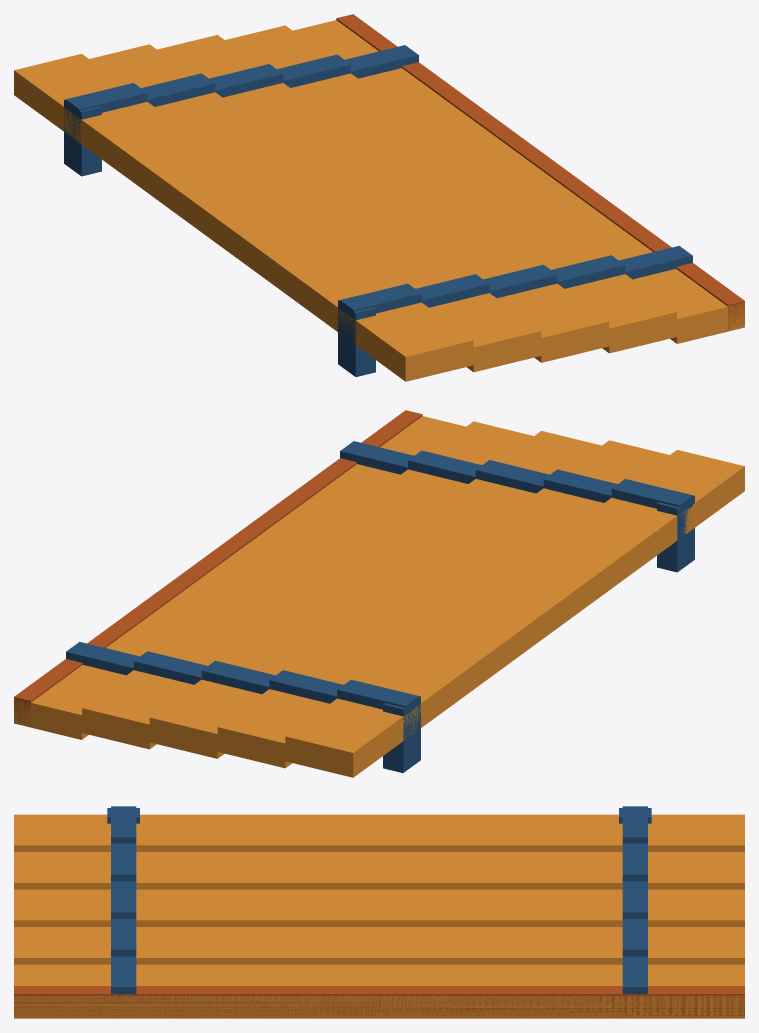
Rendered from awning.glb.
The picture shows the model from 3 angles, top to bottom: view 1: azimuth 30°, elevation 25°; view 2: azimuth 150°, elevation 25°; view 3: azimuth 270°, elevation 25°; orthographic projection. The views are drawn at different scales.
Visible parts, largest first — view 1: Shared_awning; view 2: Shared_awning; view 3: Shared_awning.
Part boxes in pixels (x1,y1,x2,y2): Shared_awning: (14,14,744,381); Shared_awning: (14,410,744,777); Shared_awning: (14,806,744,1018).
Bounding box in the file's own units: 2 × 0.37 × 4.
